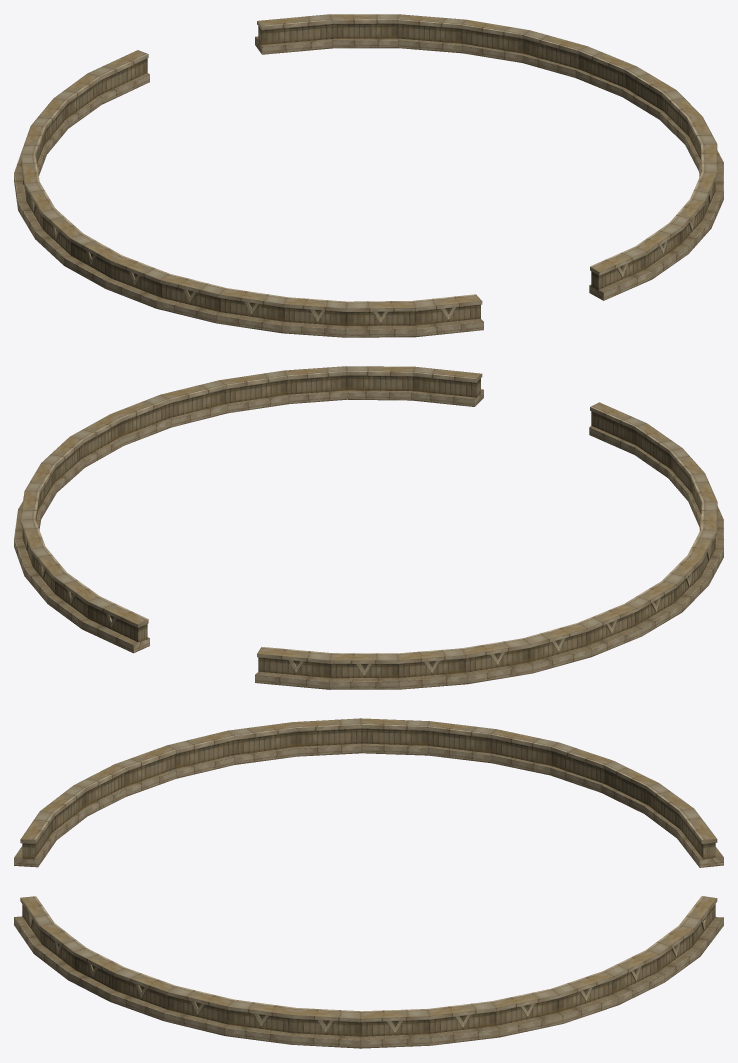
Rendered from DN_mccpq2_Tube.FBX.
The picture shows the model from 3 angles, top to bottom: view 1: azimuth 30°, elevation 25°; view 2: azimuth 150°, elevation 25°; view 3: azimuth 270°, elevation 25°; orthographic projection.
Parts seen in each view (by area): view 1: DN_mccpq2_Tube; view 2: DN_mccpq2_Tube; view 3: DN_mccpq2_Tube.
Boxes of the visible parts, x1,y1,x2,y2 form: DN_mccpq2_Tube: (14,14,723,337); DN_mccpq2_Tube: (14,366,723,689); DN_mccpq2_Tube: (14,718,723,1048).
Bounding box in the file's own units: 1655 × 69.94 × 1622.
Materials: 1 (1 with a texture image).
